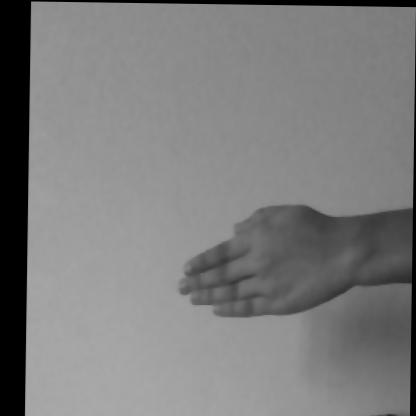palm: (153, 172, 401, 373)
